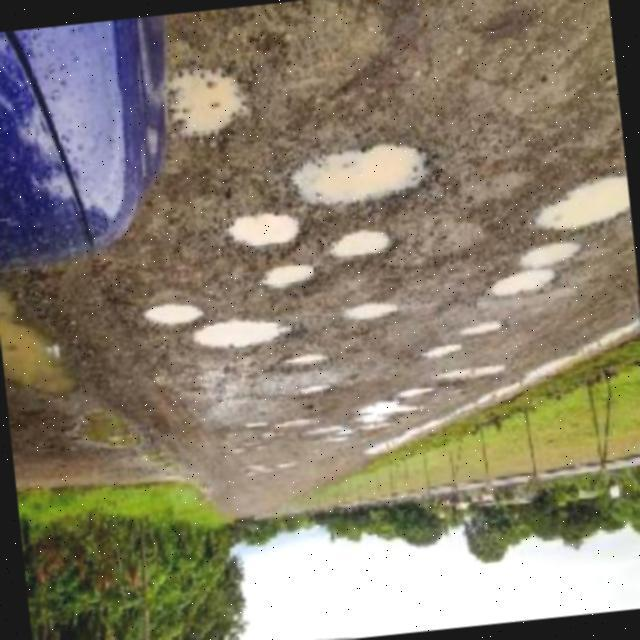Pothole: (287, 142, 429, 203), (167, 65, 243, 137), (531, 173, 629, 228), (224, 210, 298, 251), (190, 317, 291, 347), (322, 229, 391, 264), (135, 300, 202, 329), (488, 268, 555, 295), (519, 242, 581, 267), (259, 261, 314, 287), (436, 363, 501, 382), (340, 299, 398, 319), (275, 352, 332, 372), (419, 343, 462, 359), (461, 319, 501, 336), (394, 383, 435, 399), (295, 382, 333, 399)
